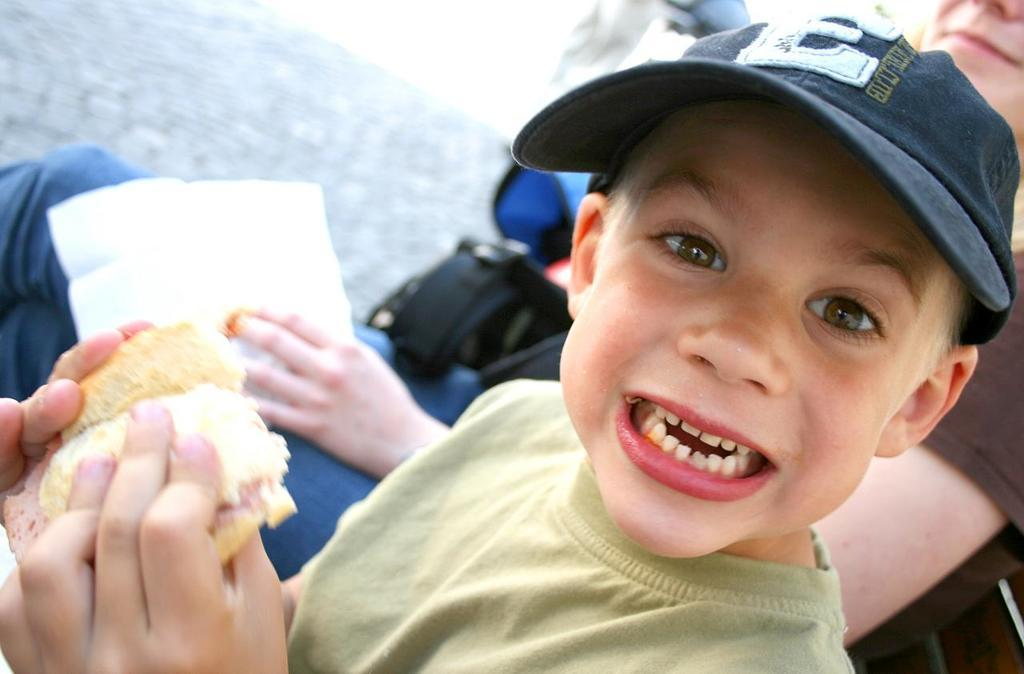Hat: (510, 12, 1023, 346)
